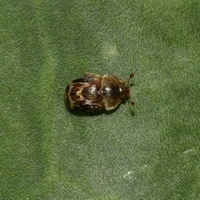insect: (64, 72, 133, 111)
